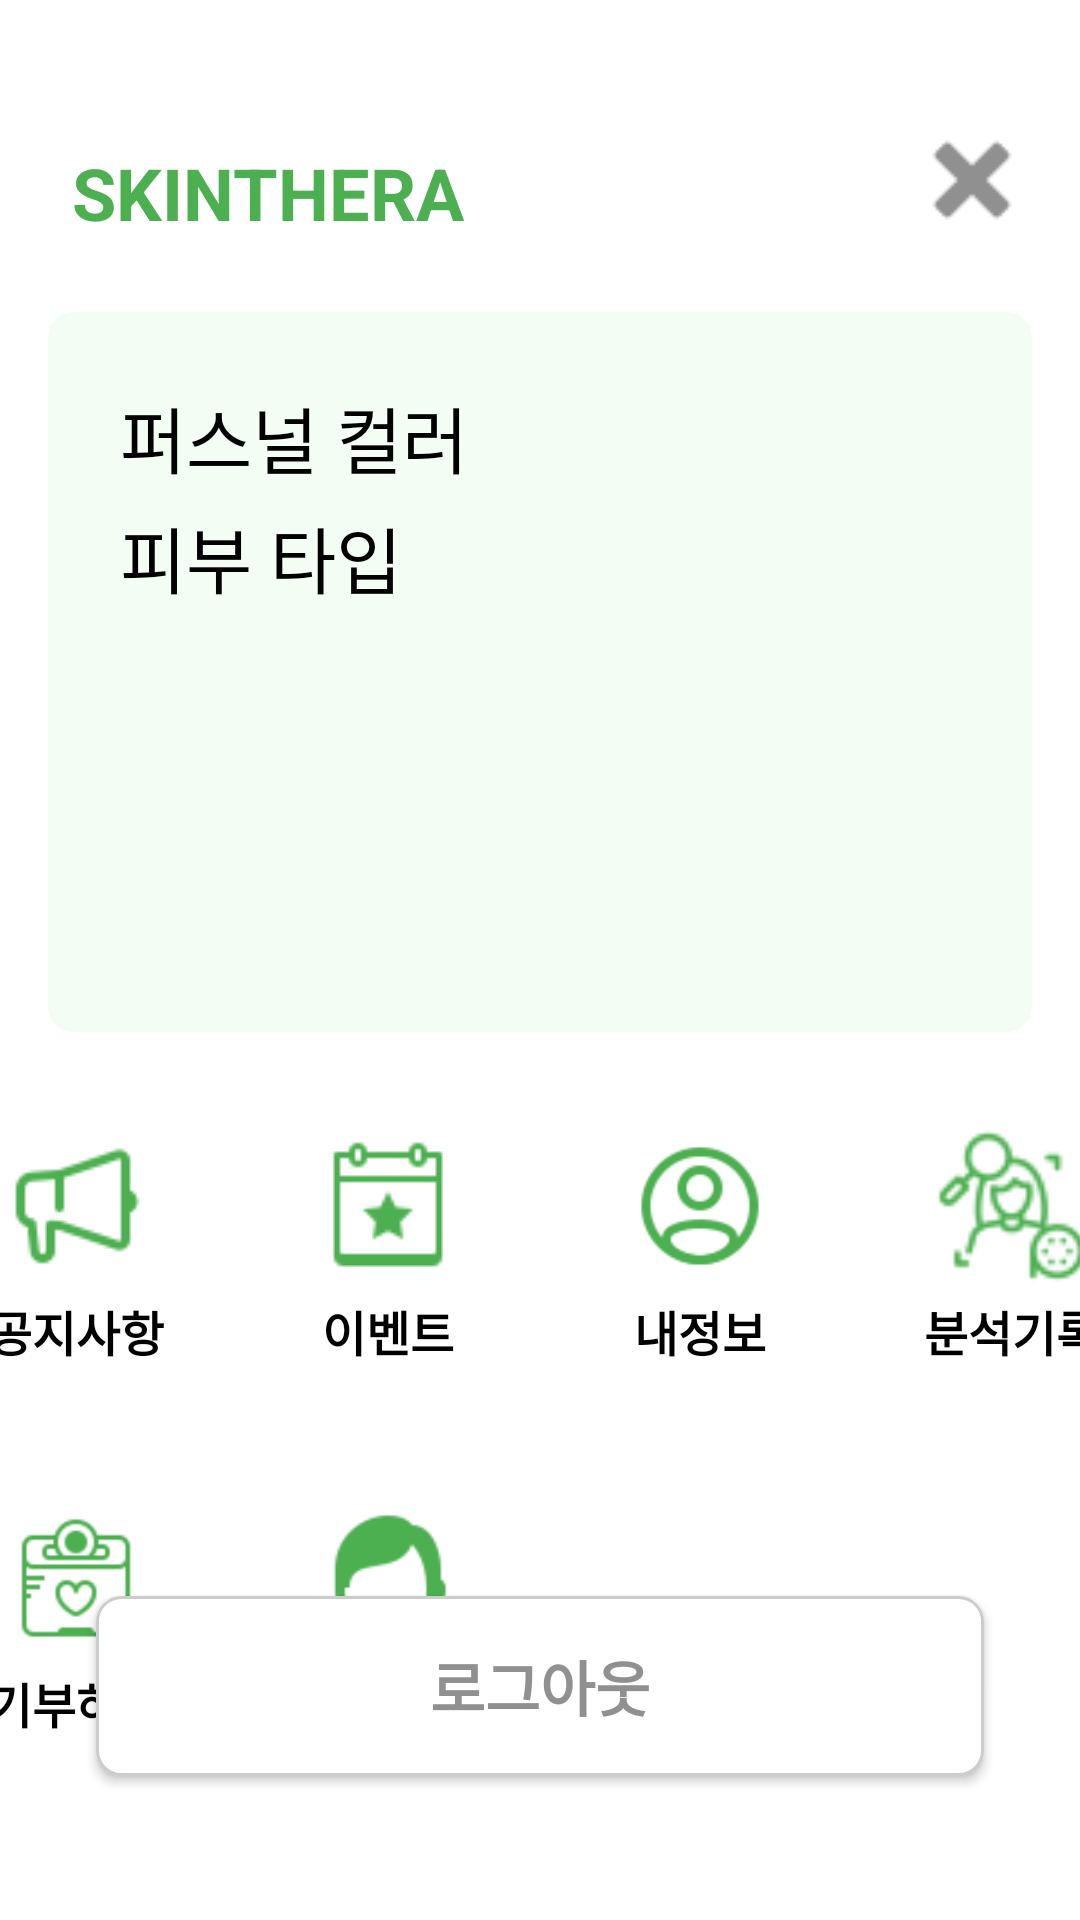

Where icons sit on this 1080x1920 app screen, as (left=x1, top=y1, right=x2, bottom=y2):
profile: (left=641, top=1147, right=759, bottom=1265)
